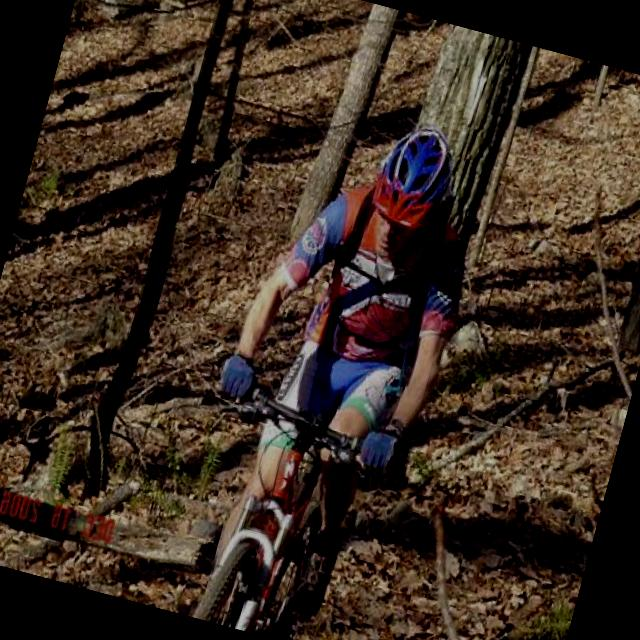Person: (167, 92, 507, 640)
